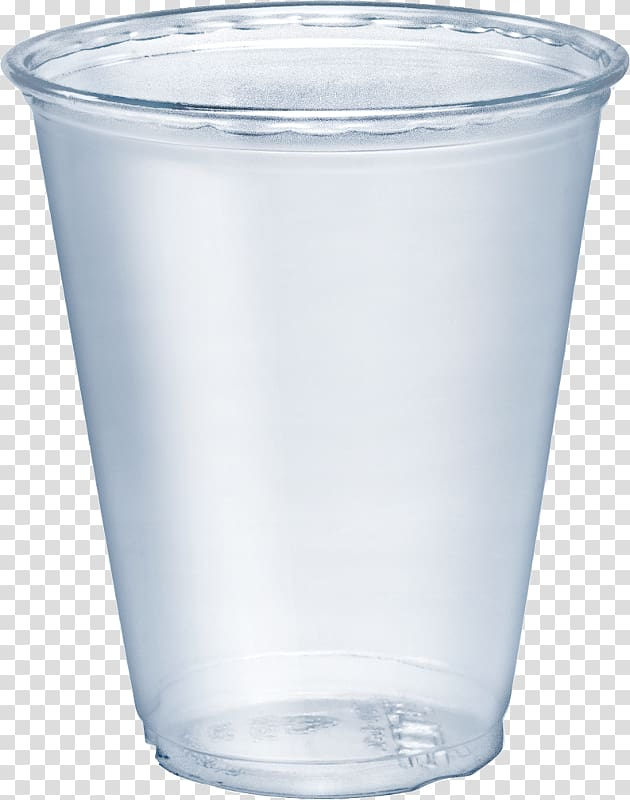plastic_bottle: (1, 1, 630, 800)
